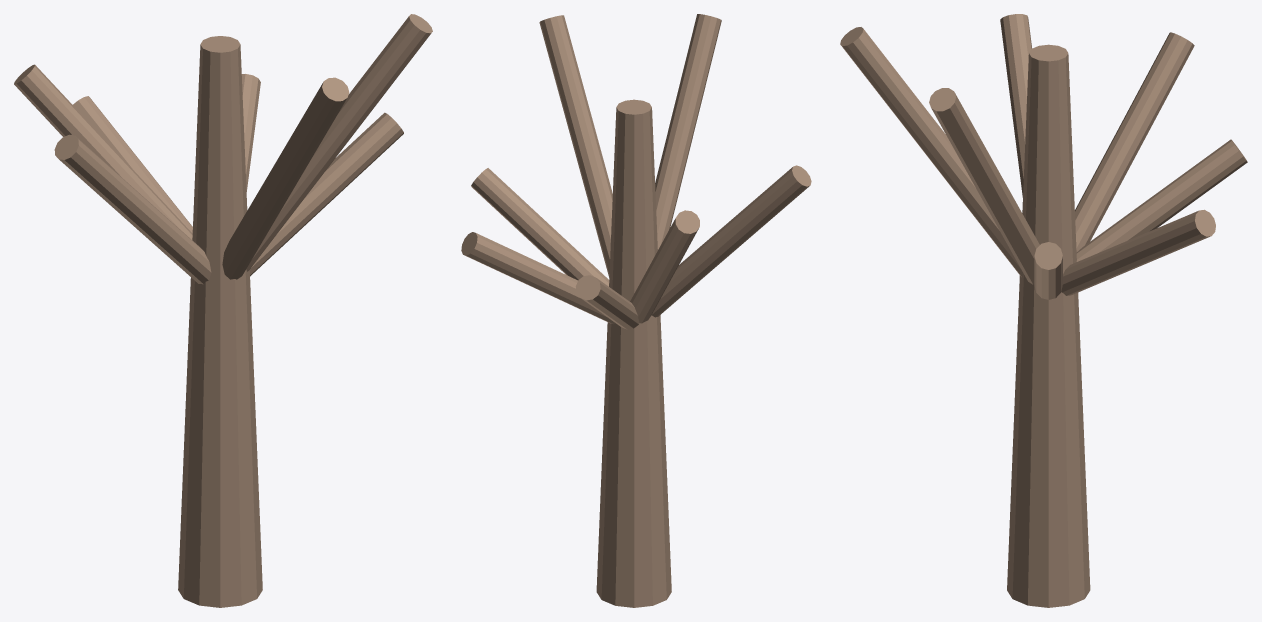
File: dead_tree.glb
The picture shows the model from 3 angles, left to right: view 1: azimuth 30°, elevation 25°; view 2: azimuth 150°, elevation 25°; view 3: azimuth 270°, elevation 25°; orthographic projection. The views are drawn at different scales.
Visible parts, largest first — view 1: dead_tree_000, dead_tree_003, dead_tree_006, dead_tree_005, dead_tree_001, dead_tree_002, dead_tree_007, dead_tree_004; view 2: dead_tree_000, dead_tree_006, dead_tree_003, dead_tree_005, dead_tree_001, dead_tree_004, dead_tree_002, dead_tree_007; view 3: dead_tree_000, dead_tree_003, dead_tree_002, dead_tree_006, dead_tree_007, dead_tree_004, dead_tree_005, dead_tree_001.
Part boxes in pixels (box(x1,y1,x2,y2)): dead_tree_000: box(178, 36, 262, 607); dead_tree_003: box(222, 77, 349, 279); dead_tree_006: box(246, 14, 432, 271); dead_tree_005: box(54, 134, 211, 284); dead_tree_001: box(249, 112, 403, 276); dead_tree_002: box(14, 64, 192, 239); dead_tree_007: box(73, 96, 192, 232); dead_tree_004: box(241, 74, 260, 191); dead_tree_000: box(596, 99, 671, 607); dead_tree_006: box(539, 15, 612, 277); dead_tree_003: box(655, 14, 721, 249); dead_tree_005: box(652, 165, 811, 317); dead_tree_001: box(471, 168, 609, 286); dead_tree_004: box(461, 232, 615, 324); dead_tree_002: box(630, 210, 699, 323); dead_tree_007: box(575, 275, 639, 329); dead_tree_000: box(1007, 44, 1090, 607); dead_tree_003: box(840, 27, 1023, 277); dead_tree_002: box(1075, 32, 1194, 251); dead_tree_006: box(929, 88, 1039, 284); dead_tree_007: box(1076, 139, 1247, 261); dead_tree_004: box(1061, 209, 1215, 295); dead_tree_005: box(1000, 14, 1032, 197); dead_tree_001: box(1034, 242, 1062, 299).
Size of the model in its own units: 1.87 by 2.86 by 1.86.
